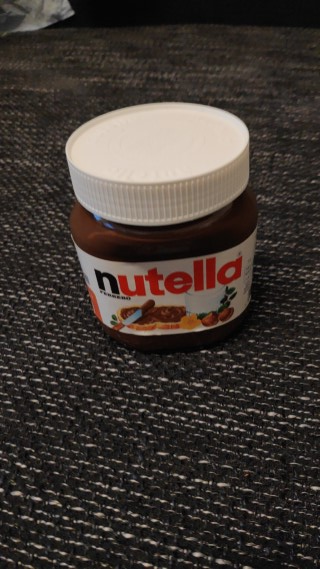nutella: (64, 97, 261, 353)
